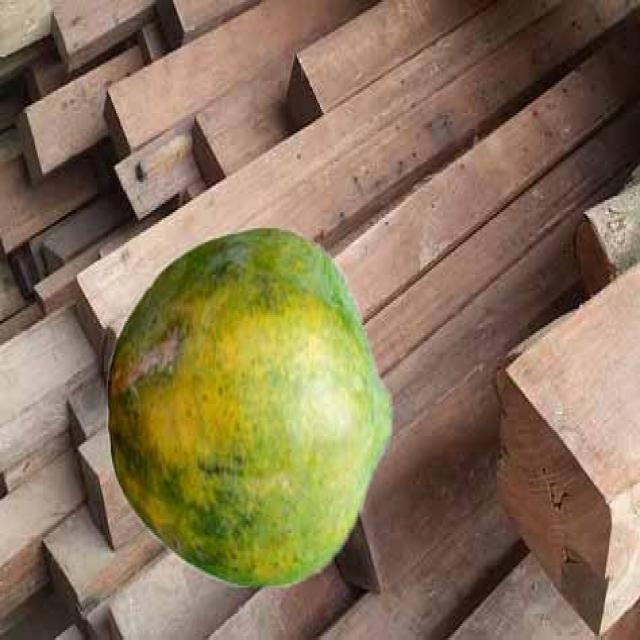Pepaya rippen: (95, 212, 401, 592)
